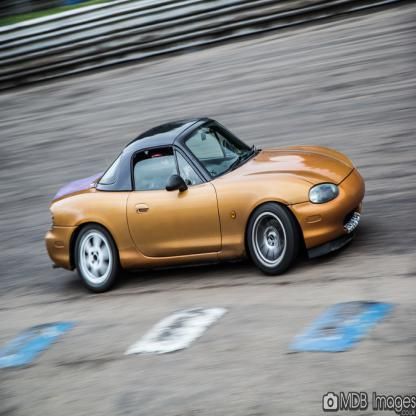Car: (44, 122, 374, 289)
